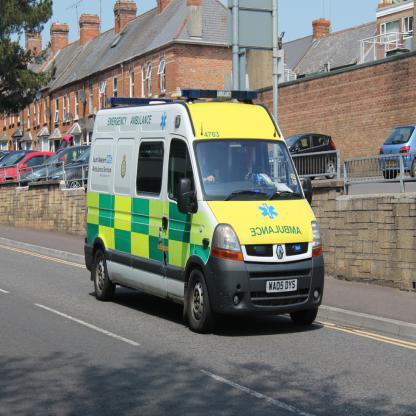Ambulance - v1 Ambulance last generate: (83, 89, 327, 333)
